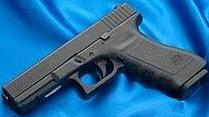gun: (1, 1, 209, 117)
